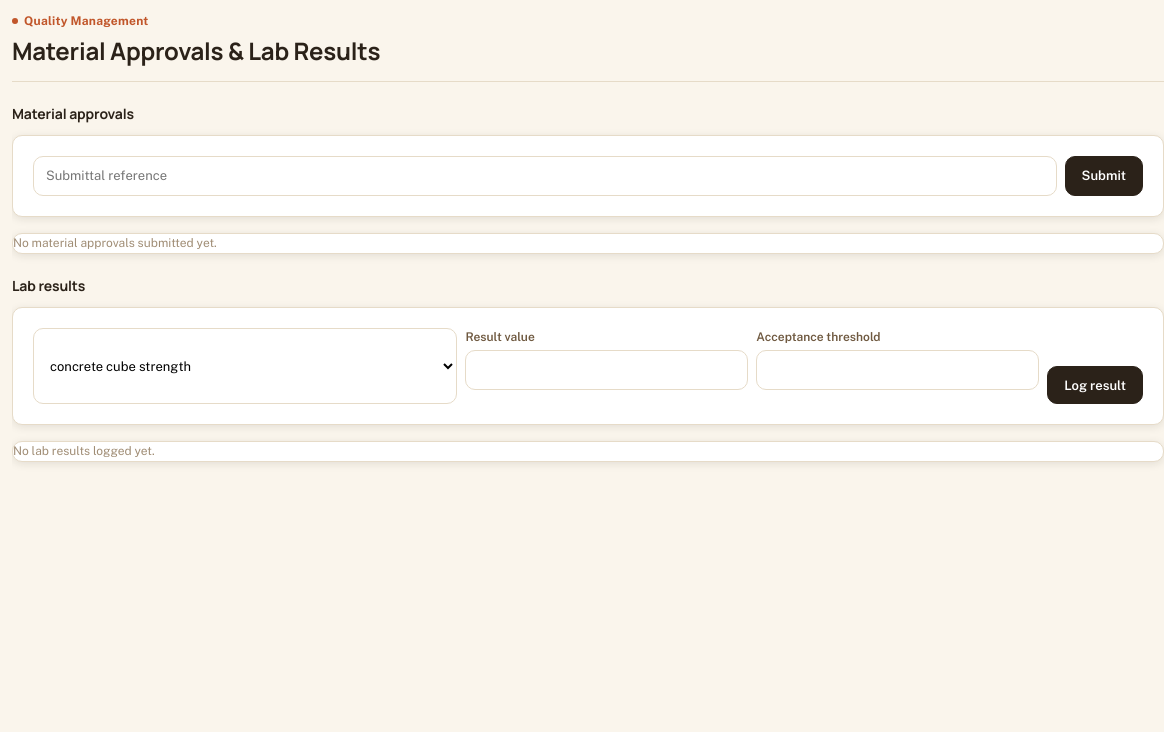
MaterialApprovalsAndLabResultsPage › shows a real error banner when submitting a material approval fails
Expected: the text "No material approvals submitted yet." is shown, [13,236,217,250]
Type "SUB-004" into the field with placeholder "Submittal reference". click: (545, 176)
box: [33,156,1056,196]
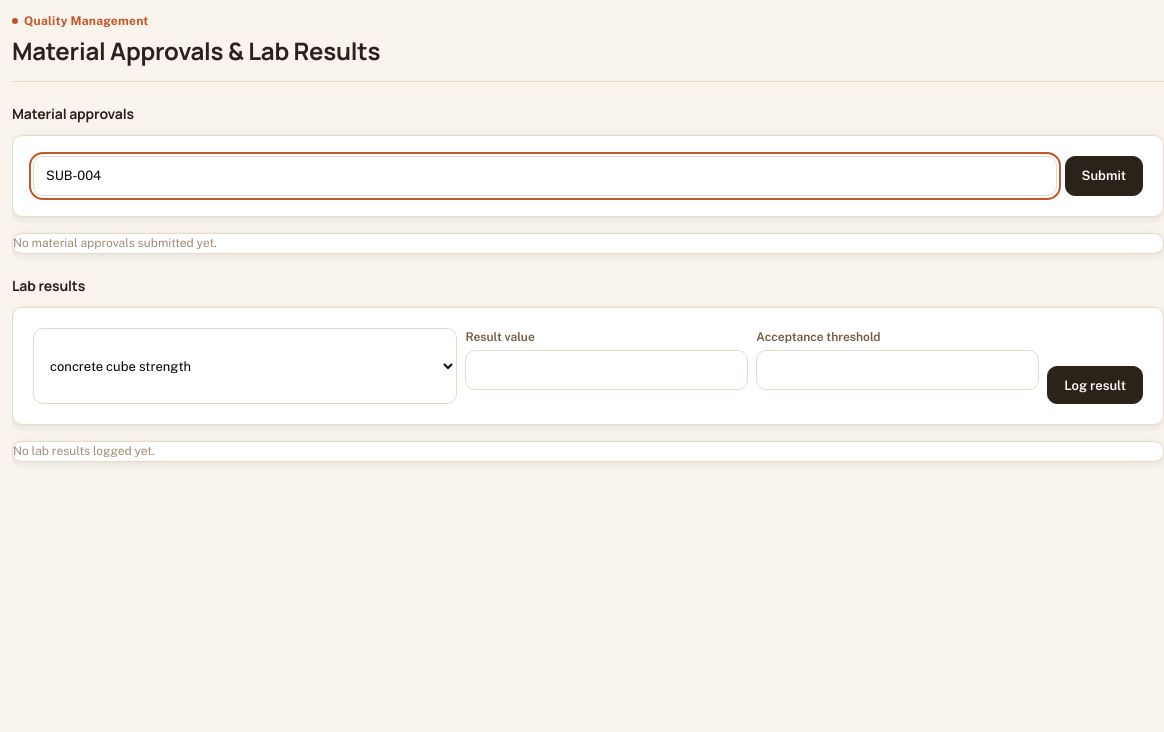
Click the button "Submit". click: click(1104, 176)
box: [1064,156,1143,196]
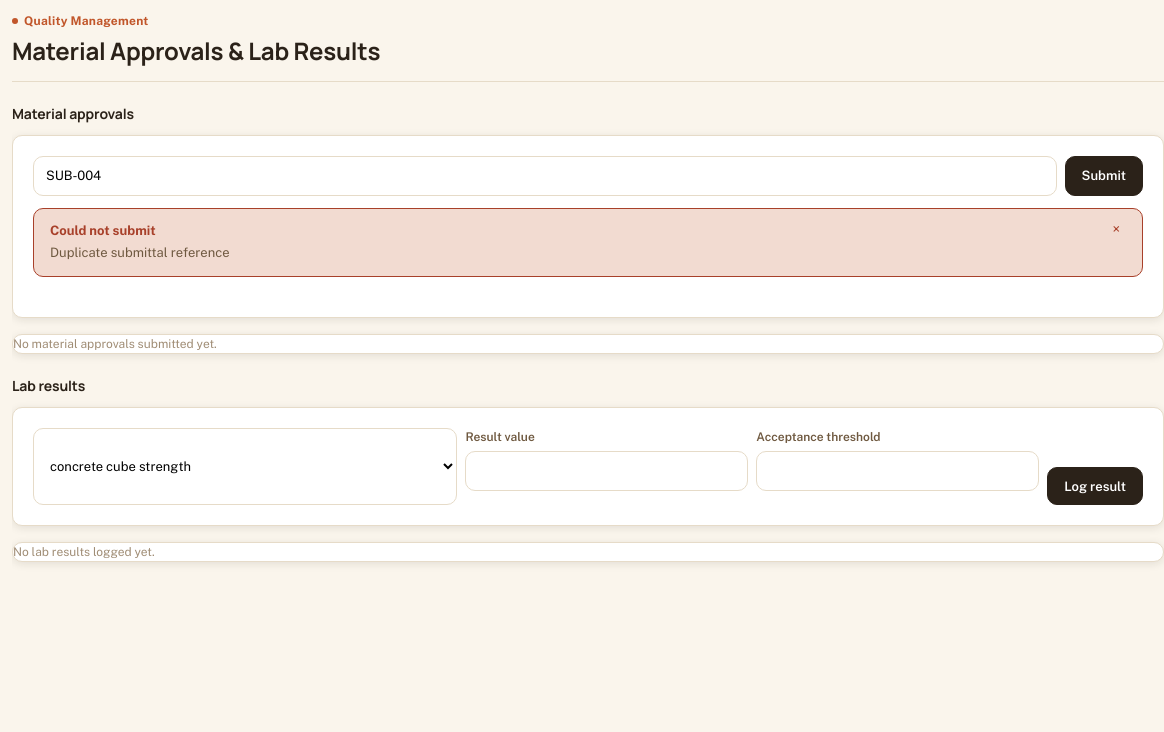
Now the text "Duplicate submittal reference" is shown, box [50,244,230,264]
